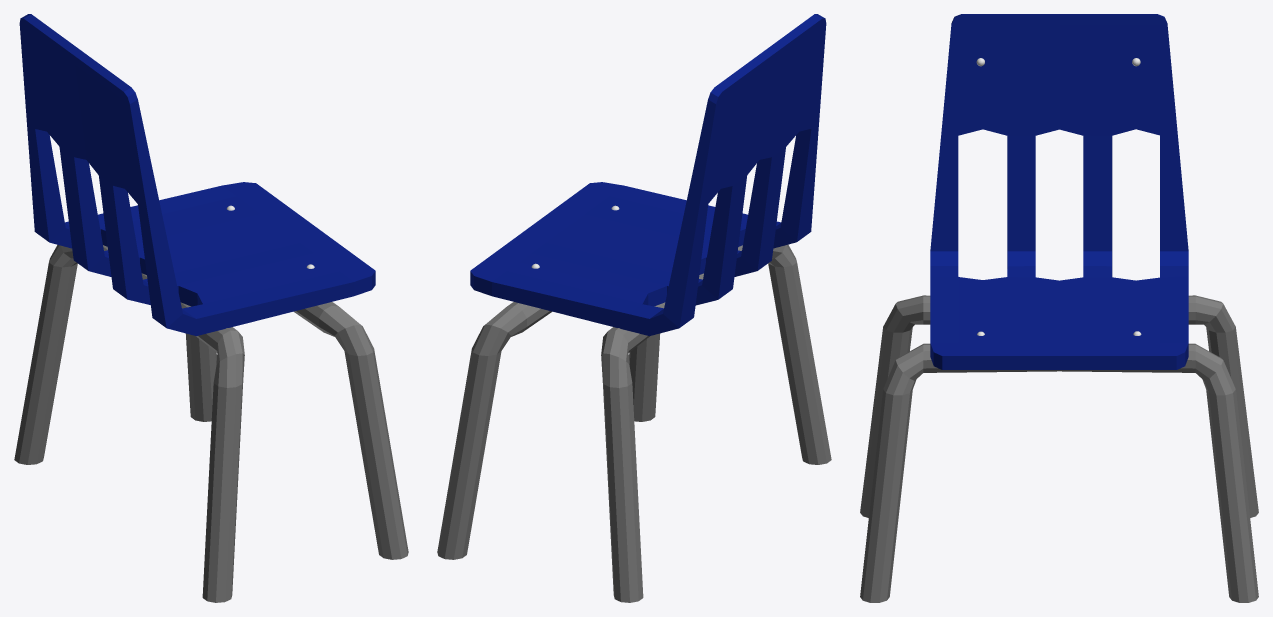
The model's file is preschoolChair.fbx.
3 renders of one model, left to right at view 1: azimuth 30°, elevation 25°; view 2: azimuth 150°, elevation 25°; view 3: azimuth 270°, elevation 25°, orthographic. The views are drawn at different scales.
Visible parts, largest first — view 1: Seat, Cylinder.001, Cylinder; view 2: Seat, Cylinder.001, Cylinder; view 3: Seat, Cylinder, Cylinder.001.
Boxes of the visible parts, x1,y1,x2,y2 form: Seat: [19, 14, 375, 336]; Cylinder.001: [14, 245, 244, 602]; Cylinder: [185, 302, 408, 559]; Seat: [470, 14, 826, 336]; Cylinder.001: [601, 244, 831, 602]; Cylinder: [437, 302, 660, 559]; Seat: [930, 14, 1188, 369]; Cylinder: [860, 343, 1258, 602]; Cylinder.001: [860, 295, 1258, 517].
Size of the model in its own units: 636 by 1223 by 926.
